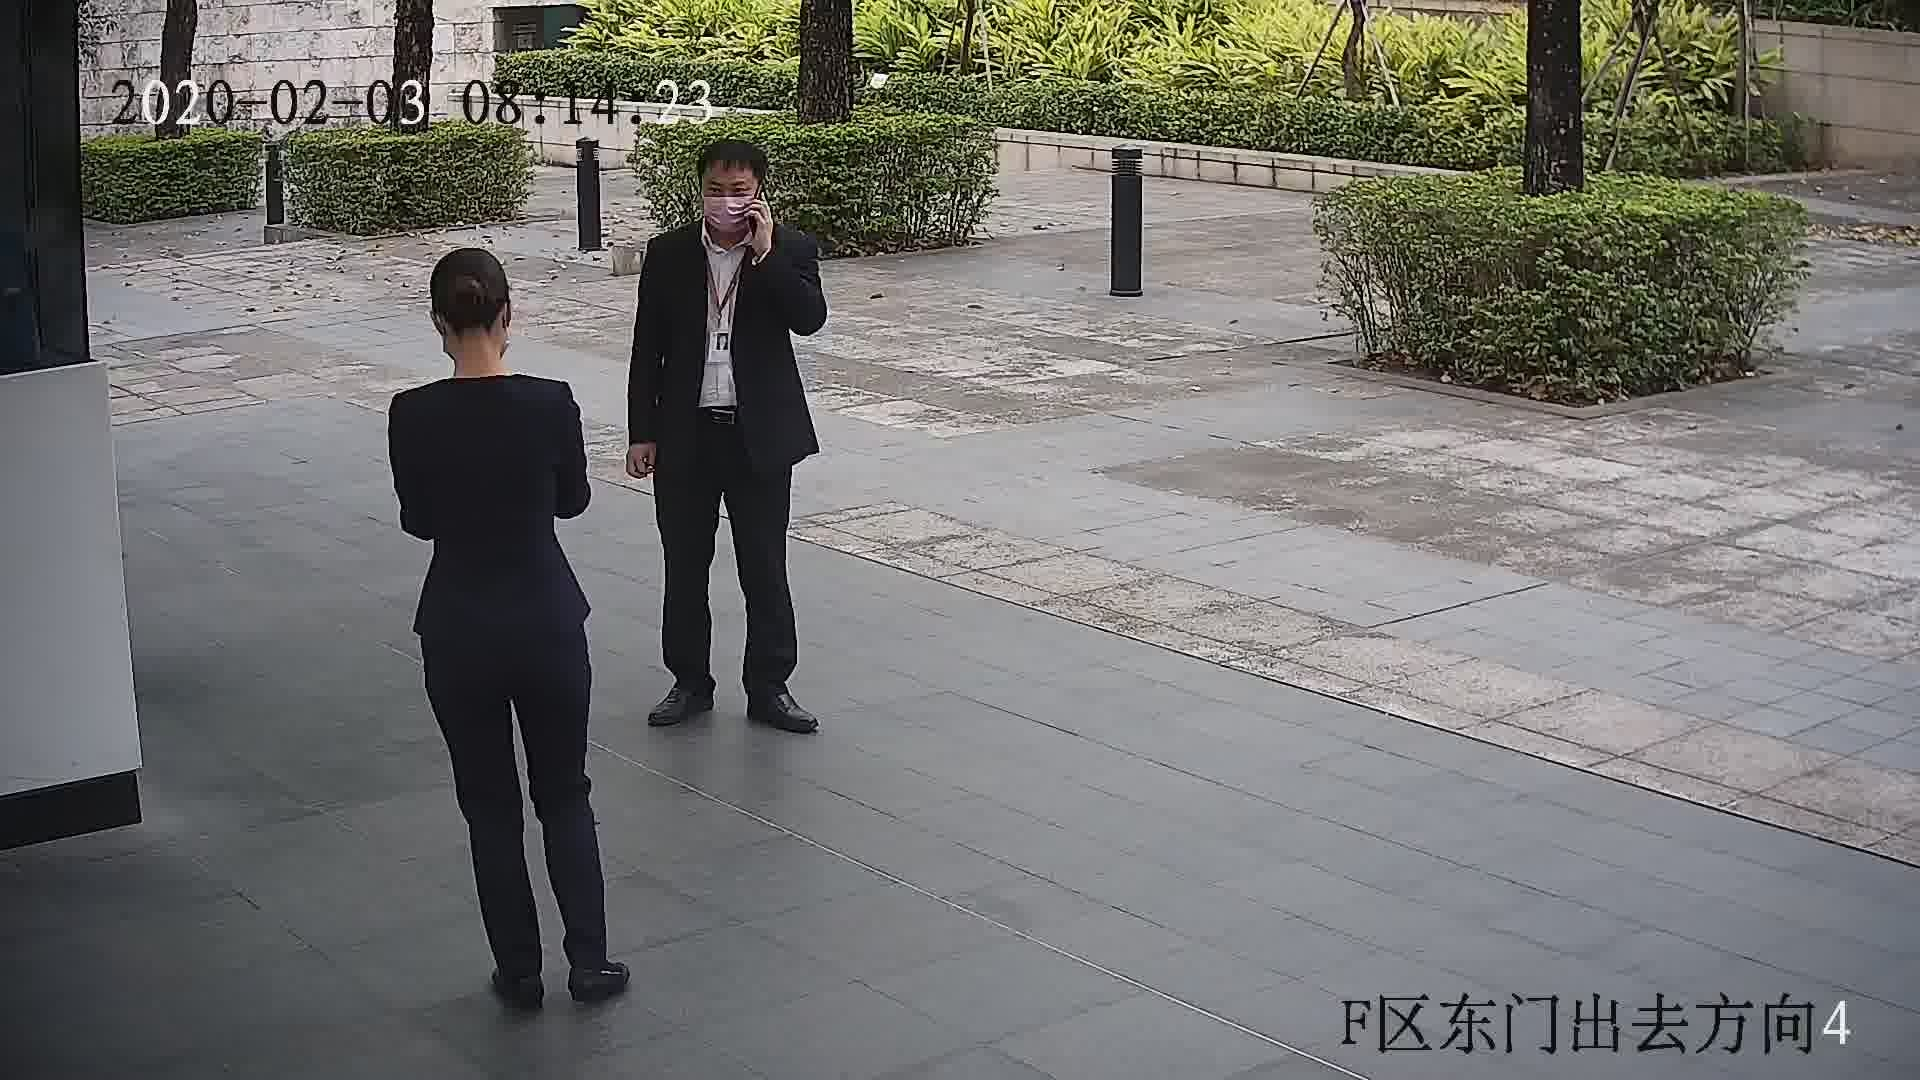face: (695, 162, 767, 234)
mask: (696, 190, 756, 230)
person: (390, 245, 579, 444), (643, 137, 817, 285)
